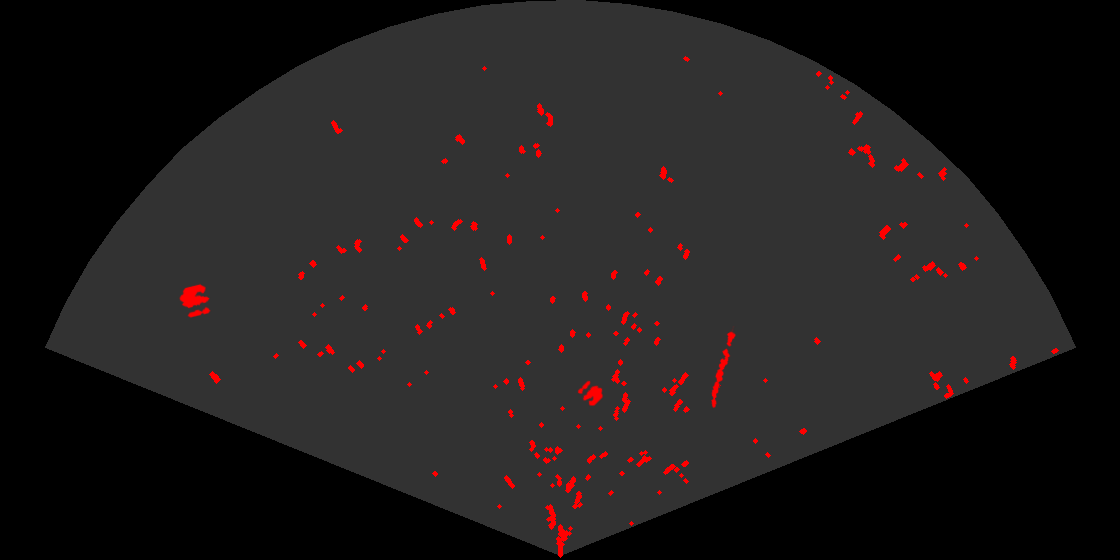ball: (178, 282, 212, 319), (576, 379, 605, 408)
chain: (710, 326, 737, 410)
